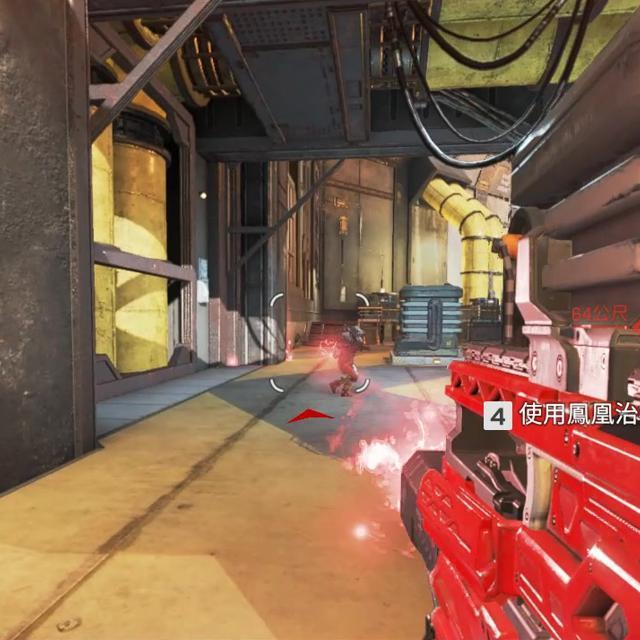avatar: (328, 324, 368, 398)
